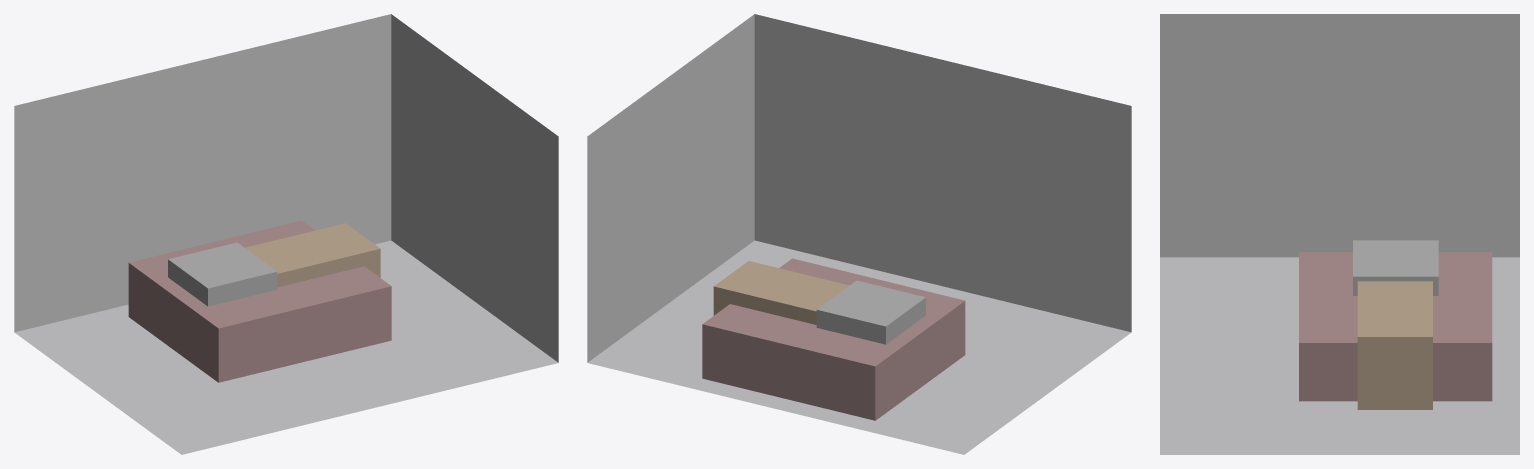
Rendered from optimised_layout.glb.
3 views of the same model, side by side, from view 1: azimuth 30°, elevation 25°; view 2: azimuth 150°, elevation 25°; view 3: azimuth 270°, elevation 25° (orthographic). The views are drawn at different scales.
Visible parts, largest first — view 1: room, bed, desk, dustbin; view 2: room, bed, desk, dustbin; view 3: room, bed, desk, dustbin.
Boxes of the visible parts, bbox=[...] form: room: bbox=[14, 14, 558, 454]; bed: bbox=[128, 220, 391, 382]; desk: bbox=[245, 223, 380, 287]; dustbin: bbox=[168, 242, 277, 306]; room: bbox=[587, 14, 1131, 454]; bed: bbox=[702, 258, 965, 420]; desk: bbox=[713, 261, 849, 324]; dustbin: bbox=[816, 280, 925, 344]; room: bbox=[1160, 14, 1519, 454]; bed: bbox=[1299, 252, 1492, 401]; desk: bbox=[1357, 281, 1432, 409]; dustbin: bbox=[1353, 240, 1438, 295].
Bounding box in the file's own units: 4.36 × 2.5 × 3.35.
